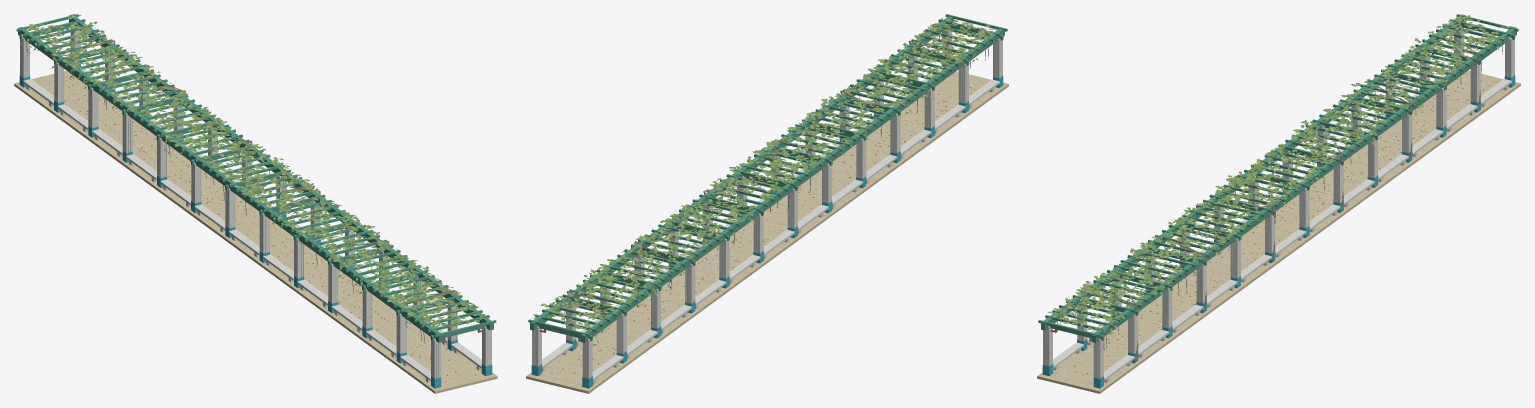
Rendered from dining-pergola.glb.
3 views of the same model, side by side, from view 1: azimuth 30°, elevation 25°; view 2: azimuth 150°, elevation 25°; view 3: azimuth 330°, elevation 25° (orthographic).
Parts seen in each view (by area): view 1: dining-pergola; view 2: dining-pergola; view 3: dining-pergola.
Boxes of the visible parts, x1,y1,x2,y2 form: dining-pergola: (14, 14, 497, 393); dining-pergola: (526, 14, 1008, 393); dining-pergola: (1037, 14, 1520, 393).
Bounding box in the file's own units: 4.13 × 3.53 × 43.
